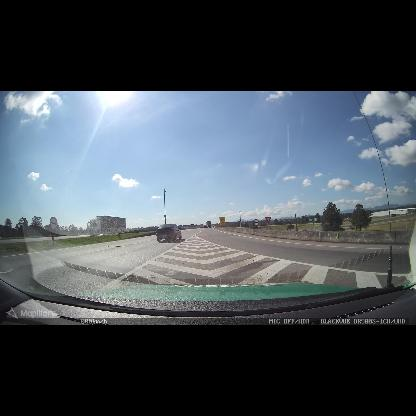R-2: (264, 217, 272, 224)
R-24a: (49, 217, 58, 230), (254, 219, 259, 226)
